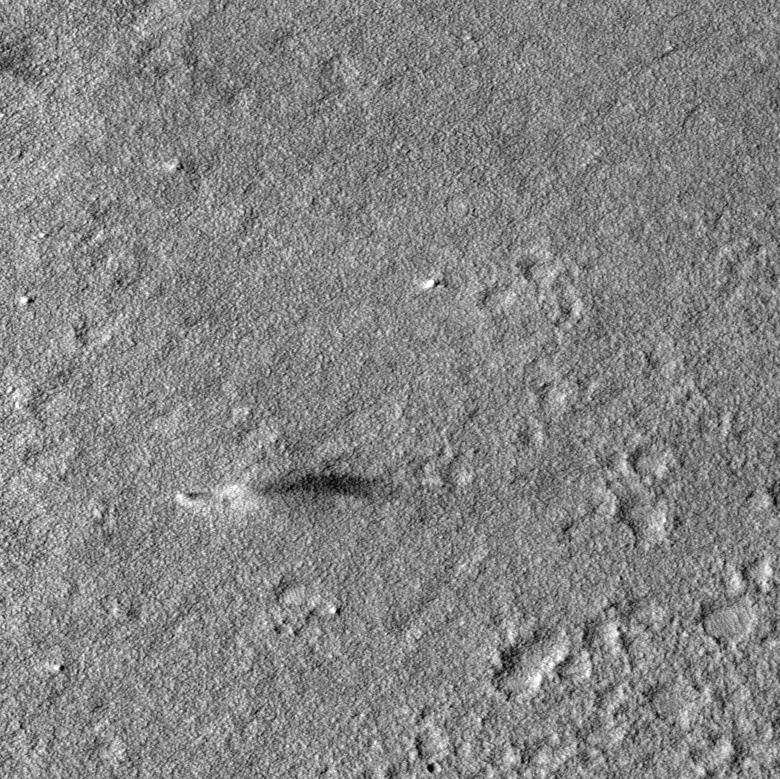dust_devil: (170, 471, 378, 517)
